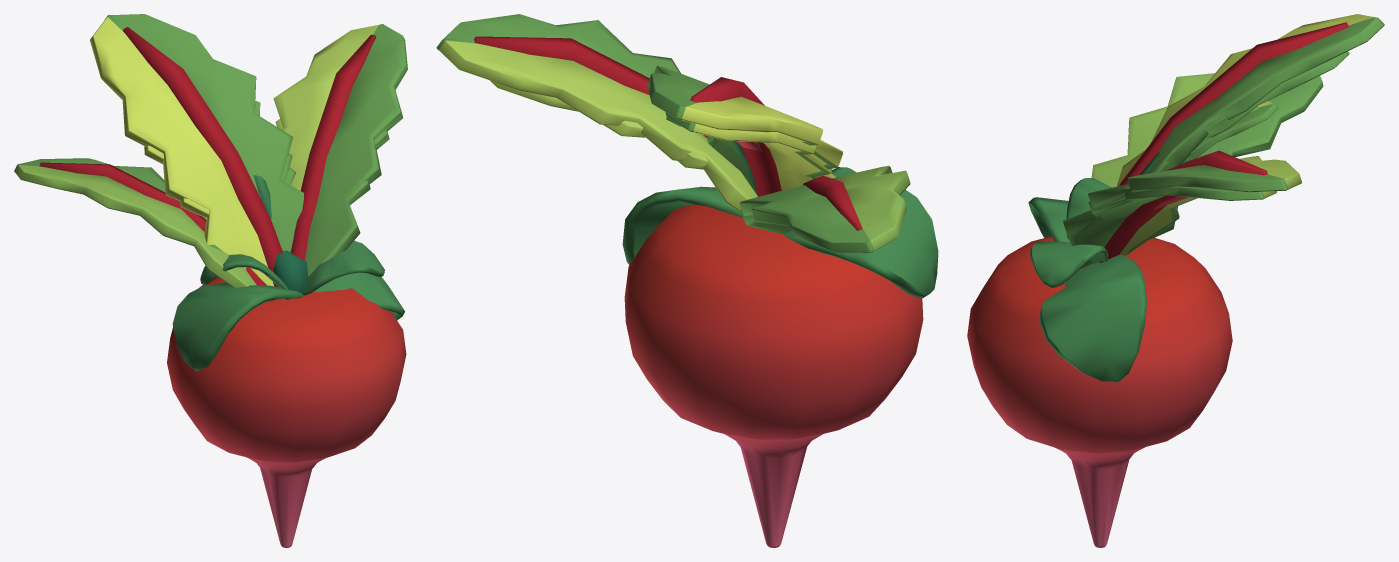
The model's file is Beet.fbx.
3 renders of one model, left to right at view 1: azimuth 30°, elevation 25°; view 2: azimuth 150°, elevation 25°; view 3: azimuth 270°, elevation 25°, orthographic. The views are drawn at different scales.
Visible parts, largest first — view 1: LV3B, LV2B, LV1B; view 2: LV3B, LV2B; view 3: LV3B, LV2B, LV1B.
Boxes of the visible parts, <box> form: LV3B: <box>14,14,407,547</box>; LV2B: <box>144,100,404,371</box>; LV1B: <box>200,167,384,299</box>; LV3B: <box>436,14,923,547</box>; LV2B: <box>490,80,938,297</box>; LV3B: <box>967,14,1384,547</box>; LV2B: <box>1028,51,1349,382</box>; LV1B: <box>1030,101,1278,287</box>.
Size of the model in its own units: 0.4283 by 0.5038 by 0.3803.
